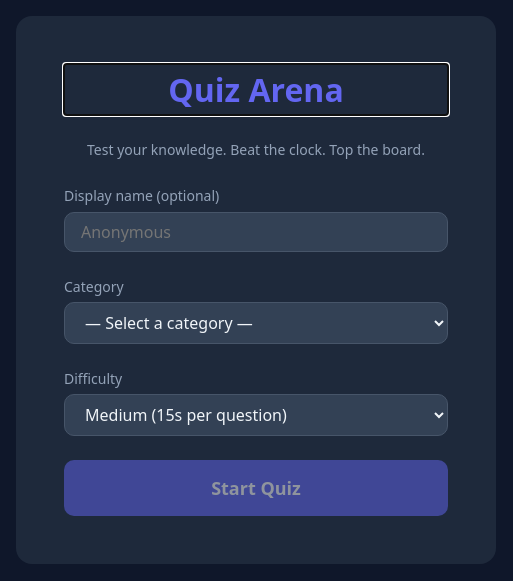
Test: Landing screen › enables start button after category selection
Select "General Knowledge" in the dropdown labelled "Category" at point(256, 323), box left=64, top=302, right=448, bottom=344
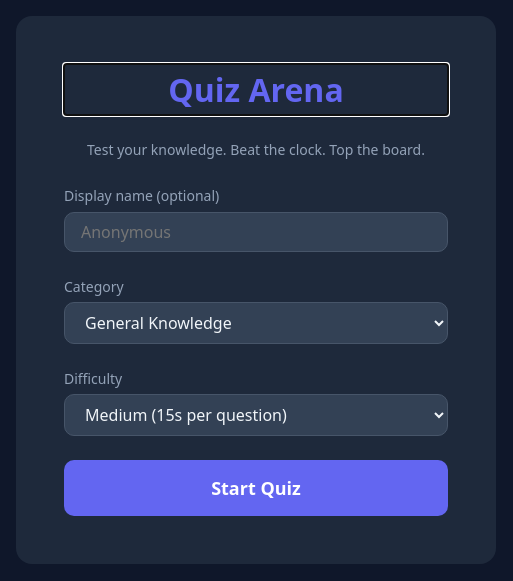
Expected: the button "Start Quiz" is enabled, left=64, top=460, right=448, bottom=516
